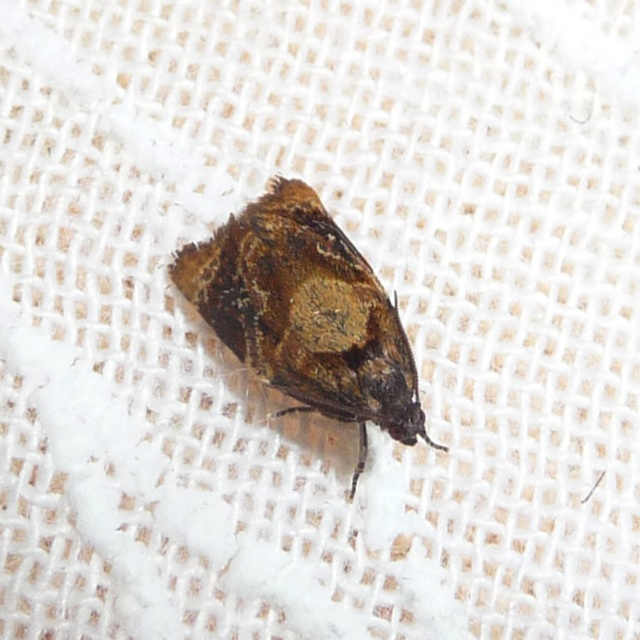Moths and butterflies: (163, 173, 451, 500)
